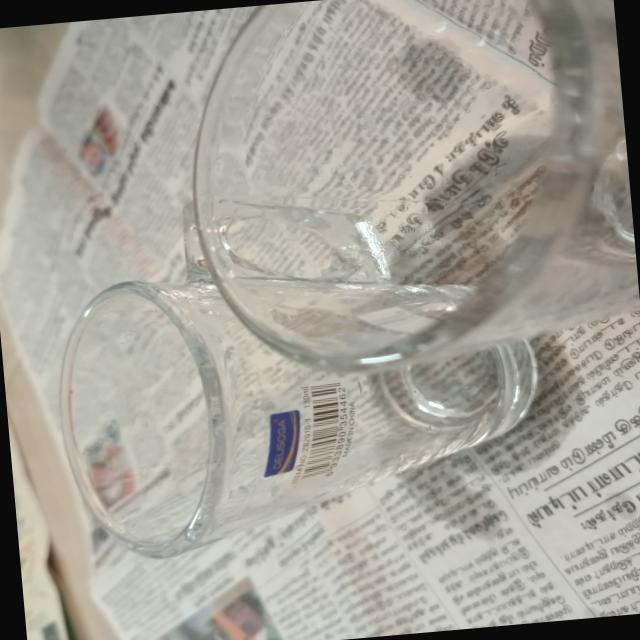glass-VX4N: (38, 165, 550, 569), (172, 0, 640, 378)
